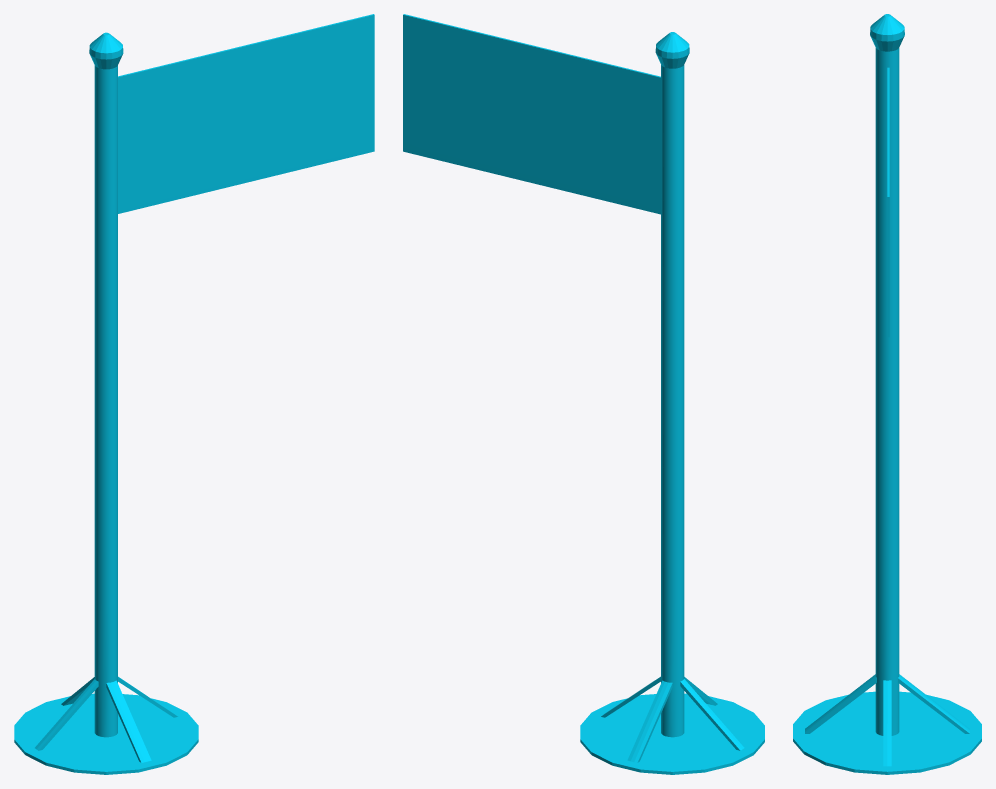
Rendered from FlagMain.fbx.
3 renders of one model, left to right at view 1: azimuth 30°, elevation 25°; view 2: azimuth 150°, elevation 25°; view 3: azimuth 270°, elevation 25°, orthographic. The views are drawn at different scales.
Visible parts, largest first — view 1: Flag_low, FlagPole_low; view 2: Flag_low, FlagPole_low; view 3: FlagPole_low, Flag_low.
Part boxes in pixels (left/top/right/bottom): Flag_low: left=118, top=14, right=374, bottom=213; FlagPole_low: left=14, top=32, right=198, bottom=774; Flag_low: left=403, top=14, right=660, bottom=214; FlagPole_low: left=580, top=32, right=764, bottom=774; FlagPole_low: left=793, top=14, right=981, bottom=774; Flag_low: left=887, top=67, right=889, bottom=337.
Bounding box in the file's own units: 6006 × 11520 × 2744.
